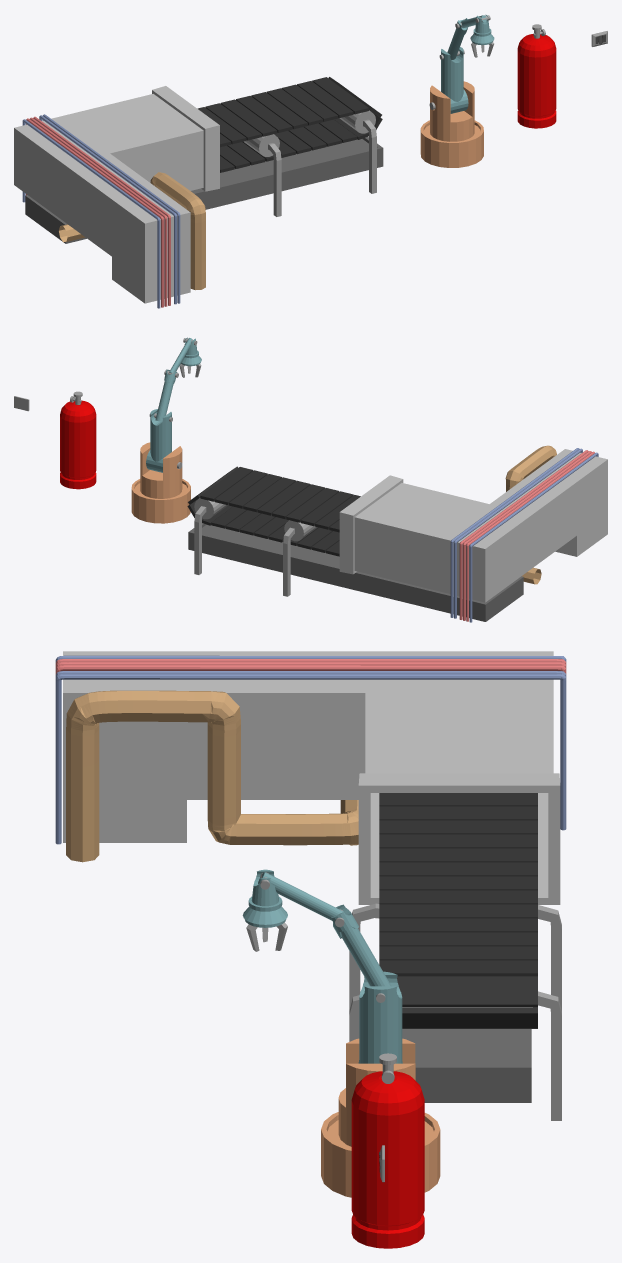
Rendered from LowPolyFactoryAssets.fbx.
3 renders of one model, top to bottom at view 1: azimuth 30°, elevation 25°; view 2: azimuth 150°, elevation 25°; view 3: azimuth 270°, elevation 25°, orthographic. The views are drawn at different scales.
Visible parts, largest first — view 1: squarepipe, pCube270, pCylinder42, pCylinder62, pipe, nurbsToPoly1, pCylinder47, nurbsToPoly3, smallpipe1, smallpipe, nurbsToPoly2, nurbsToPoly4 (+19 smaller); view 2: squarepipe, pCube270, pCylinder42, pCylinder62, pipe, pCylinder47, nurbsToPoly1, nurbsToPoly4, smallpipe1, smallpipe, nurbsToPoly2, nurbsToPoly3 (+12 smaller); view 3: squarepipe, pipe, pCylinder62, pCube270, pCylinder42, smallpipe, pCube264, pCylinder47, nurbsToPoly4, pCube265, pCube241, pCube230 (+21 smaller).
Part boxes in pixels (x1=…): squarepipe: x1=14, y1=86, x2=219, y2=303; pCube270: x1=25, y1=137, x2=383, y2=243; pCylinder42: x1=420, y1=81, x2=483, y2=167; pCylinder62: x1=517, y1=34, x2=556, y2=128; pipe: x1=59, y1=172, x2=205, y2=290; nurbsToPoly1: x1=22, y1=119, x2=160, y2=308; pCylinder47: x1=441, y1=47, x2=463, y2=101; nurbsToPoly3: x1=30, y1=117, x2=167, y2=306; smallpipe1: x1=39, y1=115, x2=176, y2=304; smallpipe: x1=42, y1=114, x2=180, y2=303; nurbsToPoly2: x1=26, y1=118, x2=163, y2=307; nurbsToPoly4: x1=33, y1=116, x2=170, y2=305; squarepipe: x1=339, y1=449, x2=607, y2=602; pCube270: x1=188, y1=523, x2=523, y2=621; pCylinder42: x1=131, y1=442, x2=190, y2=523; pCylinder62: x1=60, y1=400, x2=96, y2=489; pipe: x1=505, y1=445, x2=556, y2=584; pCylinder47: x1=150, y1=409, x2=171, y2=461; nurbsToPoly1: x1=469, y1=452, x2=598, y2=622; nurbsToPoly4: x1=459, y1=450, x2=588, y2=619; smallpipe1: x1=454, y1=448, x2=582, y2=618; smallpipe: x1=450, y1=448, x2=579, y2=617; nurbsToPoly2: x1=466, y1=451, x2=594, y2=621; nurbsToPoly3: x1=463, y1=451, x2=591, y2=620; squarepipe: x1=63, y1=651, x2=560, y2=904; pipe: x1=66, y1=690, x2=358, y2=862; pCylinder62: x1=351, y1=1071, x2=424, y2=1248; pCube270: x1=402, y1=1029, x2=531, y2=1102; pCylinder42: x1=321, y1=1038, x2=440, y2=1197; smallpipe: x1=55, y1=674, x2=566, y2=844; pCube264: x1=397, y1=976, x2=537, y2=1006; pCylinder47: x1=359, y1=971, x2=402, y2=1063; nurbsToPoly4: x1=55, y1=665, x2=566, y2=674; pCube265: x1=402, y1=1007, x2=537, y2=1027; pCube241: x1=379, y1=960, x2=537, y2=976; pCube230: x1=379, y1=862, x2=537, y2=876.
Bounding box in the file's own units: 52.58 × 15.82 × 22.51.
